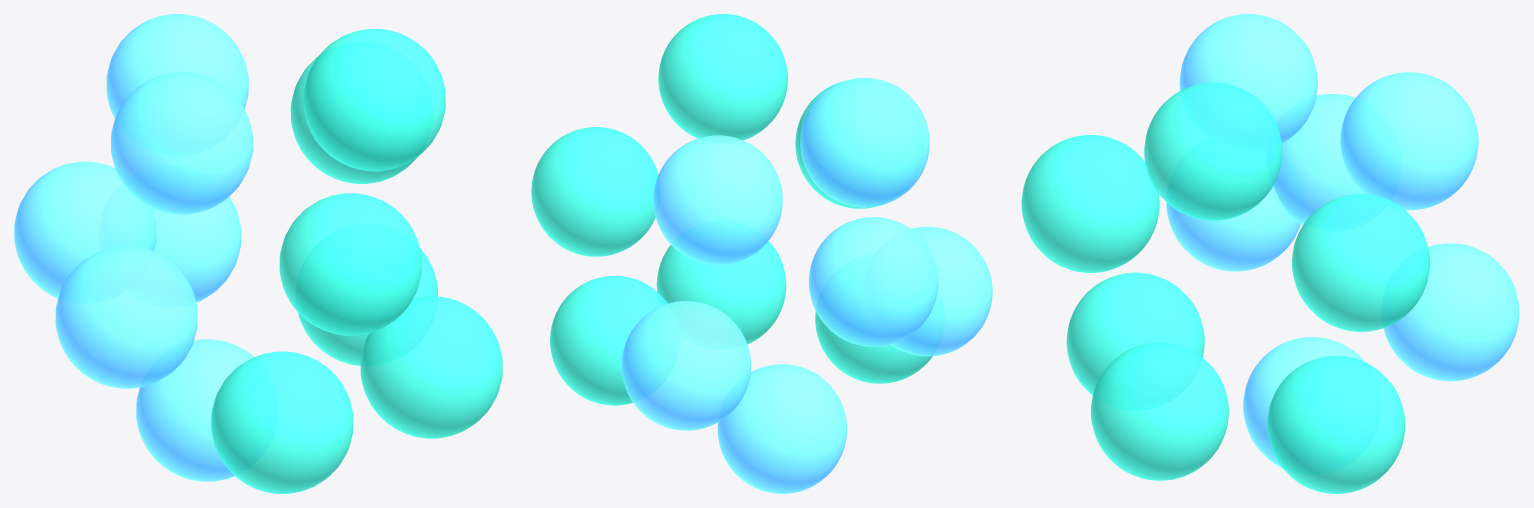
The model's file is uuon-nucleus_animated.glb.
The picture shows the model from 3 angles, left to right: view 1: azimuth 30°, elevation 25°; view 2: azimuth 150°, elevation 25°; view 3: azimuth 270°, elevation 25°; orthographic projection. The views are drawn at different scales.
Bounding box in the file's own units: 3.43 × 3.47 × 3.6.
